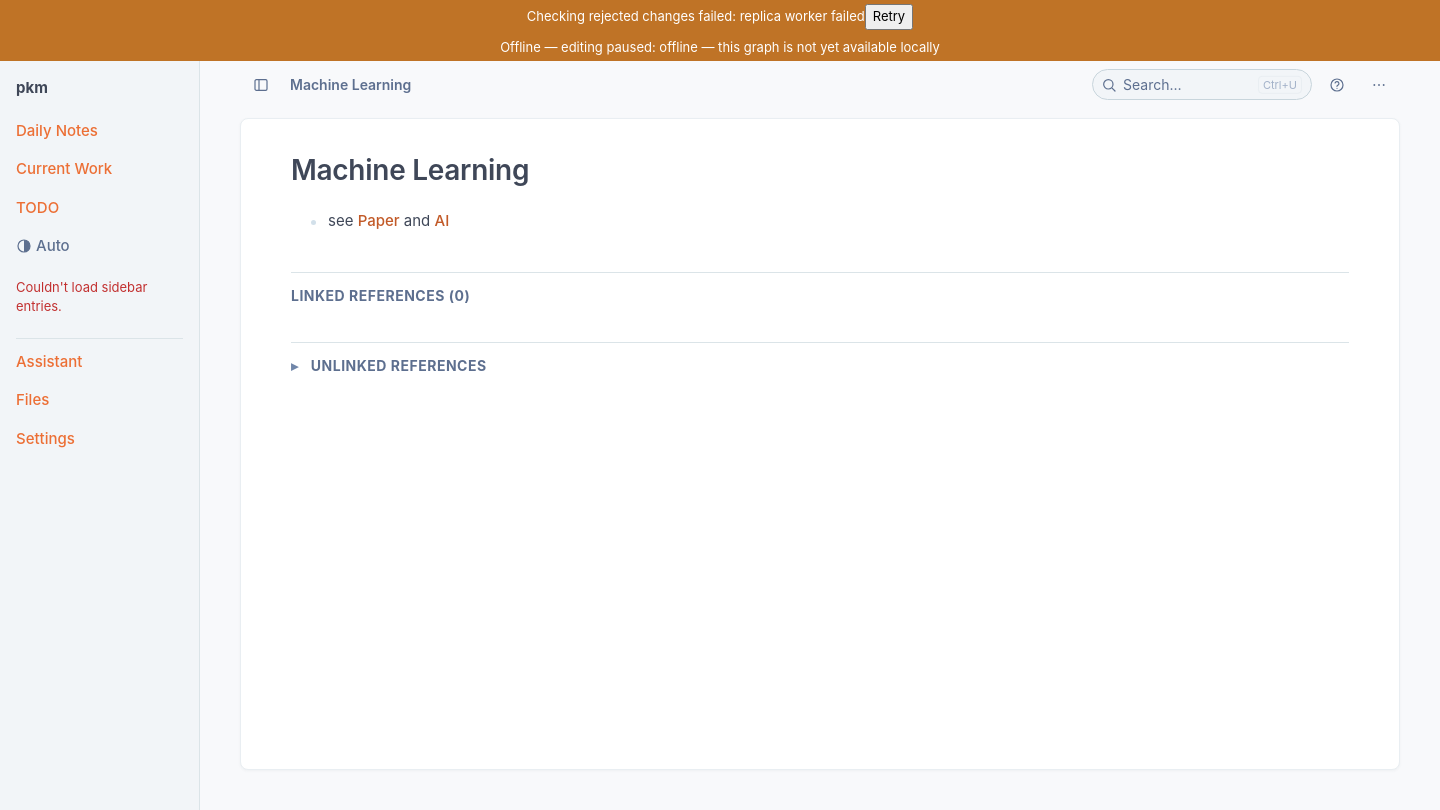
shift-click stacks sidebar panels newest-first; close removes one
The image size is (1440, 810).
Click the link "Paper".
click(379, 220)  # box [358,211,400,230]
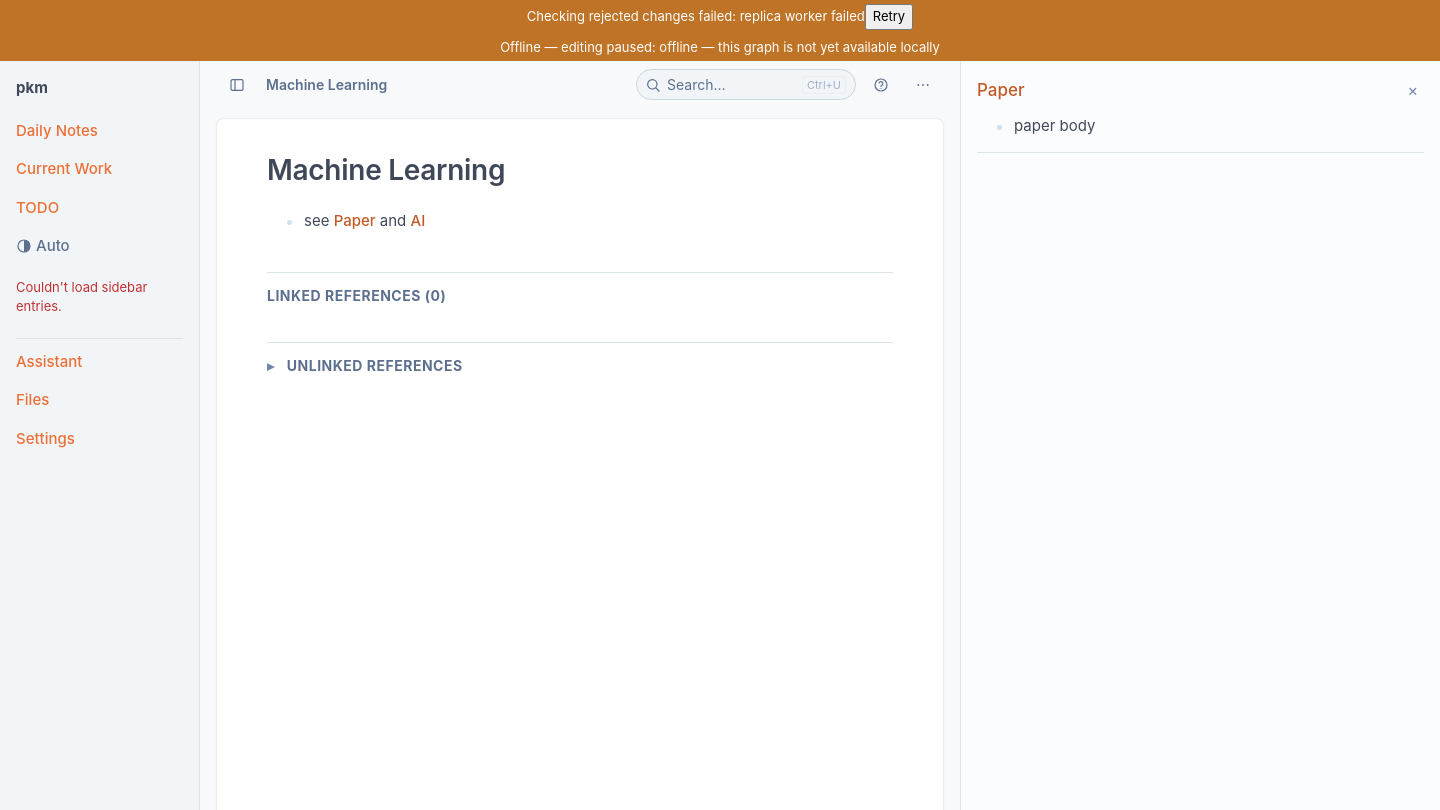
Now the text "paper body" is shown, box [1014,116,1095,134]
Click the link "AI".
click(418, 220)  # box [410,211,425,230]
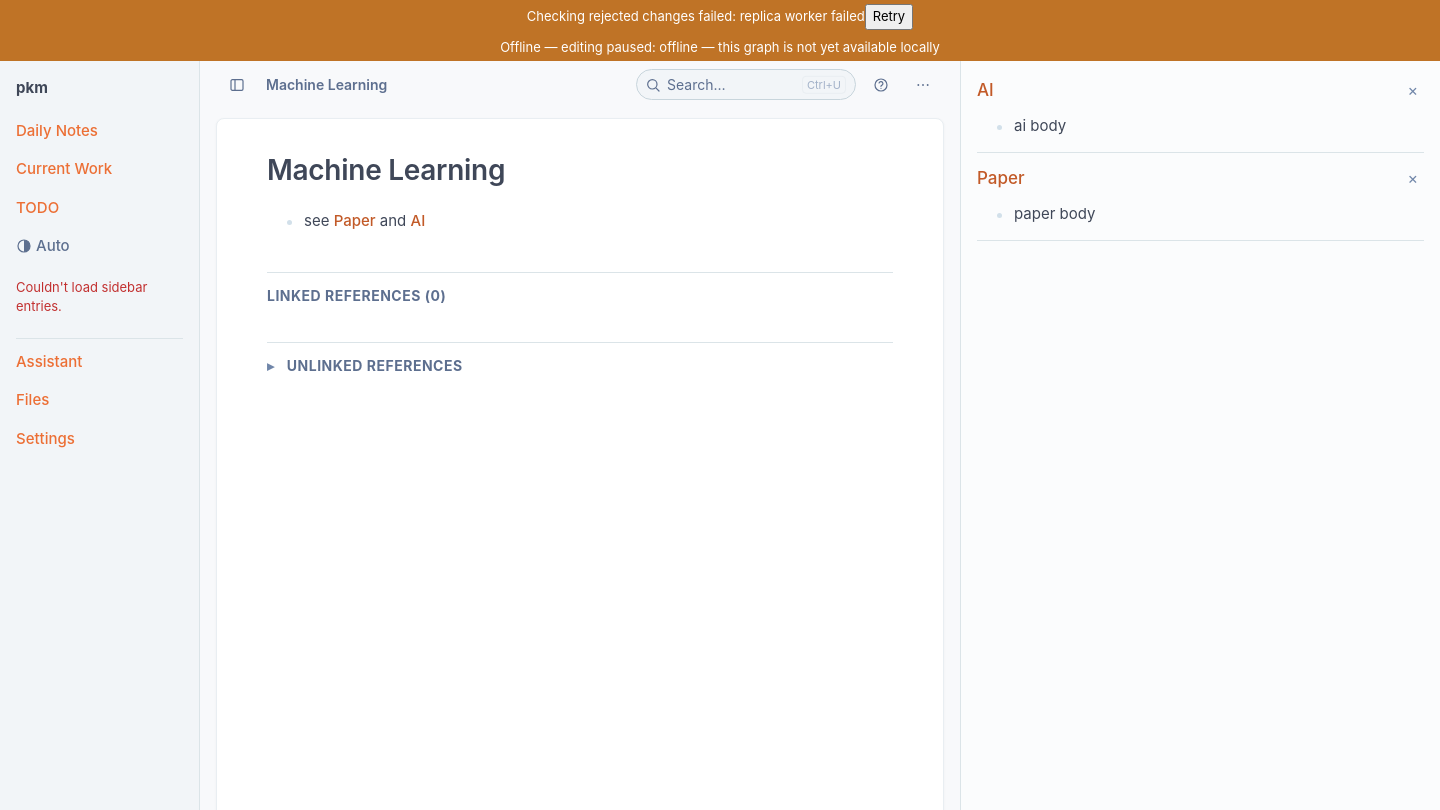
Now the text "ai body" is shown, box [1014,116,1066,134]
Click the button named "close panel".
click(1413, 90)  # box [1401,77,1424,103]
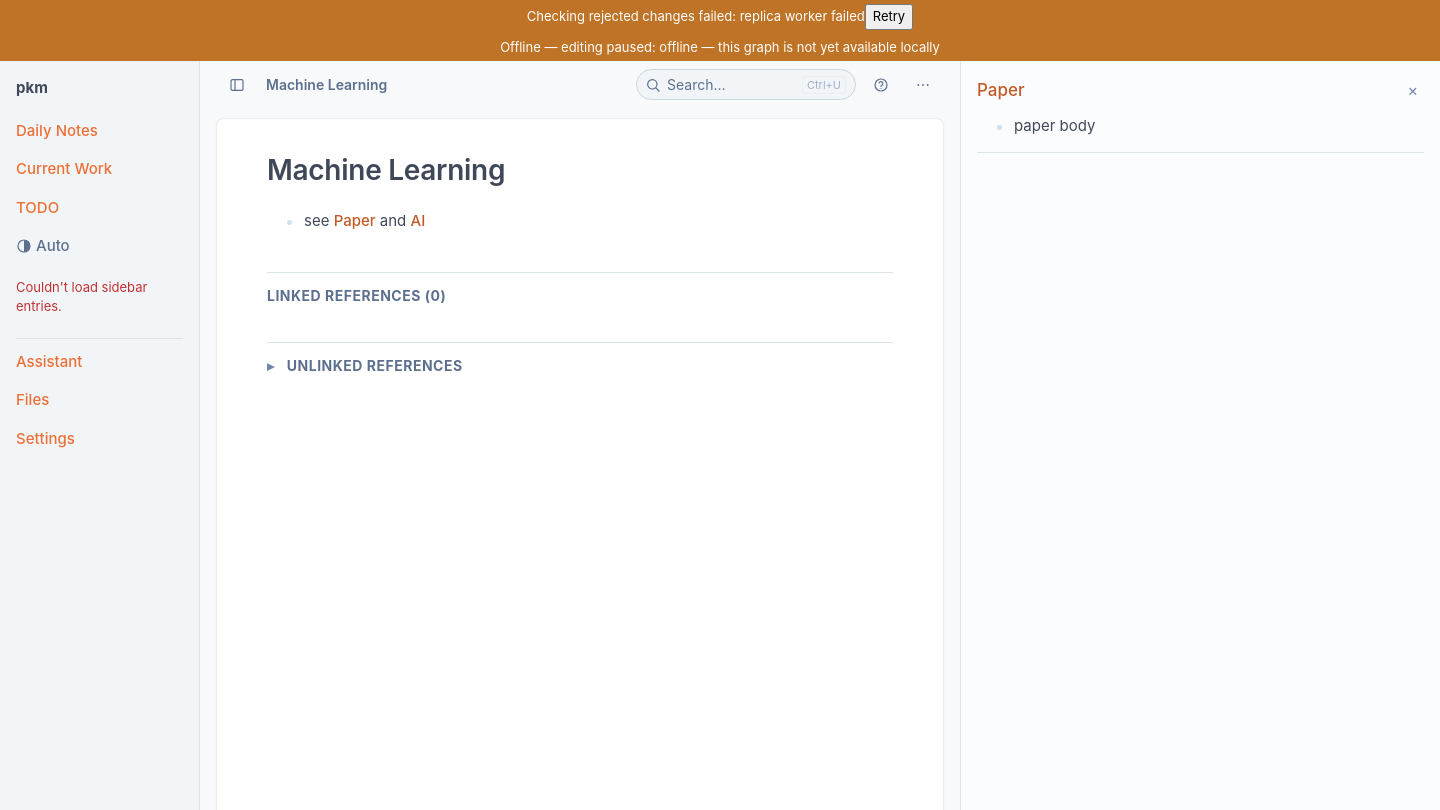
Now the text "paper body" is shown, box [1014,116,1095,134]
Now the text "ai body" is gone
